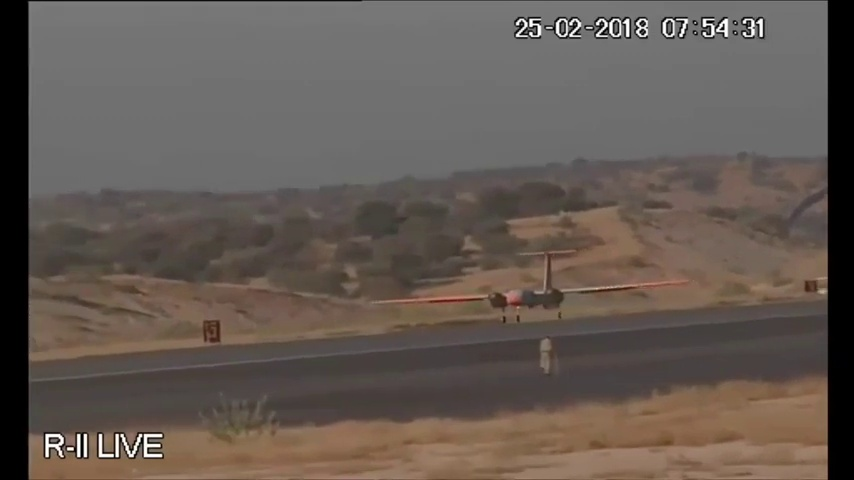military drone: (369, 247, 693, 324)
